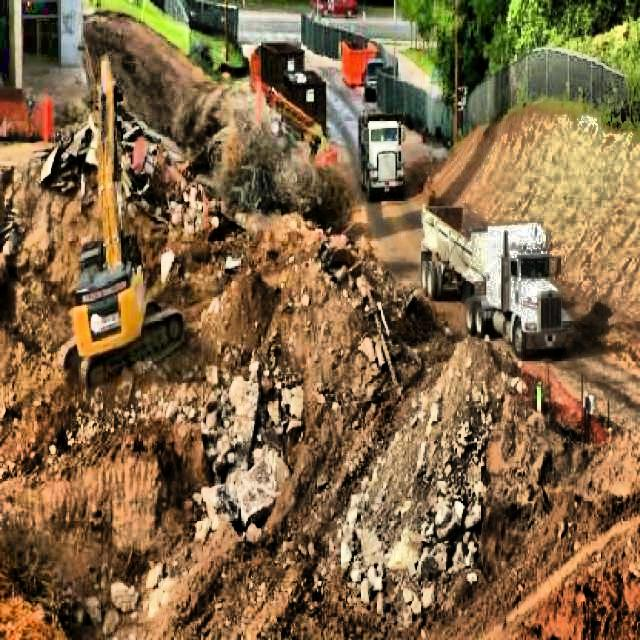dump_truck: (418, 204, 576, 354), (358, 111, 404, 200)
excavator: (54, 54, 186, 391)
